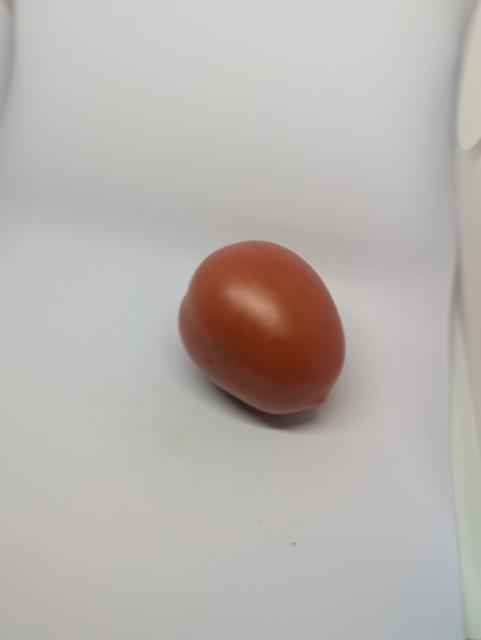red: (170, 227, 386, 442)
